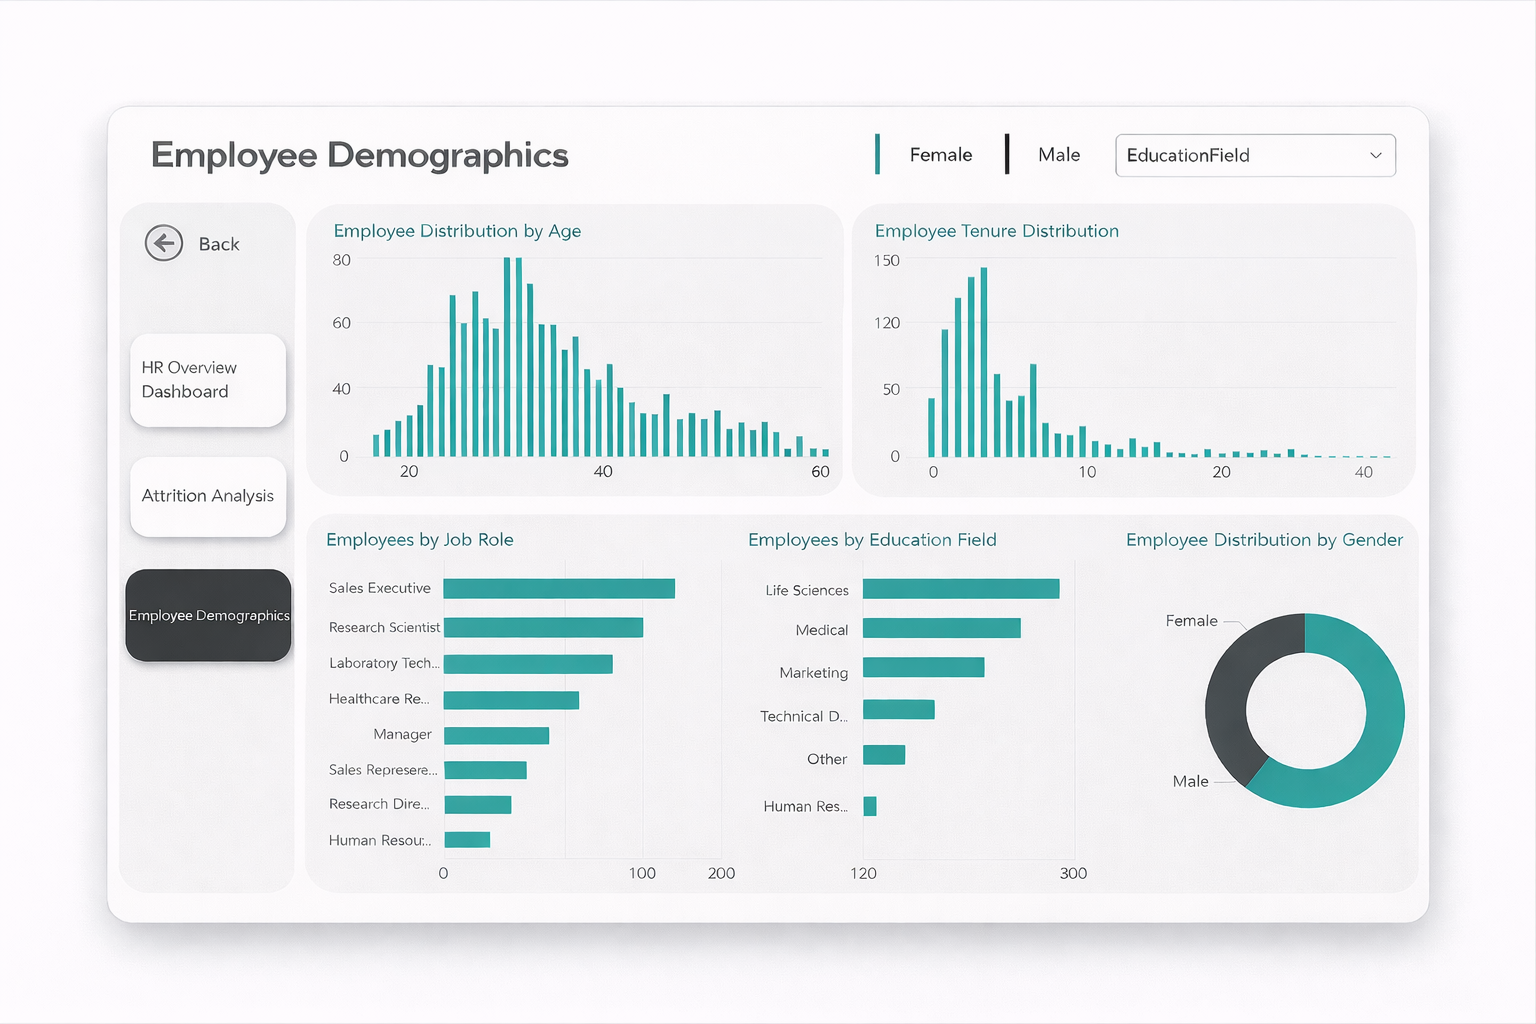

The page's visual inventory and layout, read from the dashboard file:
{"tool":"powerbi","page":{"name":"Employee Demographics","canvas":[1280,720],"ordinal":2},"visuals":[{"type":"shape","box":[212.9,402.9,1055.7,304.3],"z":0},{"type":"shape","box":[212.9,77.1,1055.7,311.4],"z":1000},{"type":"shape","box":[0,88.6,192.9,572.9],"z":2000},{"type":"clusteredColumnChart","title":"Employee Distribution by Age","fields":{"Y":["Clean_HR_IBM_dataset.Total Employees"],"Category":["Clean_HR_IBM_dataset.Age"]},"box":[227.1,88.6,498.6,300],"z":3000},{"type":"donutChart","title":"Employee Distribution  by Gender","fields":{"Y":["Clean_HR_IBM_dataset.Total Employees"],"Category":["Clean_HR_IBM_dataset.Gender"]},"box":[978.6,402.9,277.1,304.3],"z":4000},{"type":"barChart","title":"Employees by Education Field","fields":{"Category":["Clean_HR_IBM_dataset.EducationField"],"Y":["Clean_HR_IBM_dataset.Total Employees"]},"box":[618.6,402.9,337.1,304.3],"z":5000},{"type":"barChart","title":"Employees by Job Role","fields":{"Category":["Clean_HR_IBM_dataset.JobRole"],"Y":["Clean_HR_IBM_dataset.Total Employees"]},"box":[227.1,402.9,375.7,304.3],"z":6000},{"type":"columnChart","title":"Employee Tenure Distribution","fields":{"Category":["Clean_HR_IBM_dataset.YearsAtCompany"],"Y":["Clean_HR_IBM_dataset.Total Employees"]},"box":[741.4,88.6,497.1,300],"z":7000},{"type":"pageNavigator","box":[12.9,218.6,170,314.3],"z":8000},{"type":"actionButton","box":[12.9,117.1,170,40],"z":9000},{"type":"textbox","title":"Employee Demographics","box":[13.3,6.7,471.7,36.7],"z":10000},{"type":"slicer","fields":{"Values":["Clean_HR_IBM_dataset.Gender"]},"box":[651.4,7.1,292.9,55.7],"z":11000},{"type":"slicer","fields":{"Values":["Clean_HR_IBM_dataset.EducationField"]},"box":[955.7,1.4,264.3,68.6],"z":12000}]}

Visuals, with their boxes on the page's 1280x720 design canvas (x1, y1, x2, y2). These are canvas units, not pixel positions in the 1536x1024 screenshot, which may show the page scaled, cropped or inside an application window:
shape: bbox(213, 403, 1269, 707)
shape: bbox(213, 77, 1269, 388)
shape: bbox(0, 89, 193, 662)
"Employee Distribution by Age" clusteredColumnChart: bbox(227, 89, 726, 389)
"Employee Distribution  by Gender" donutChart: bbox(979, 403, 1256, 707)
"Employees by Education Field" barChart: bbox(619, 403, 956, 707)
"Employees by Job Role" barChart: bbox(227, 403, 603, 707)
"Employee Tenure Distribution" columnChart: bbox(741, 89, 1238, 389)
pageNavigator: bbox(13, 219, 183, 533)
actionButton: bbox(13, 117, 183, 157)
"Employee Demographics" textbox: bbox(13, 7, 485, 43)
slicer - Clean_HR_IBM_dataset.Gender: bbox(651, 7, 944, 63)
slicer - Clean_HR_IBM_dataset.EducationField: bbox(956, 1, 1220, 70)
